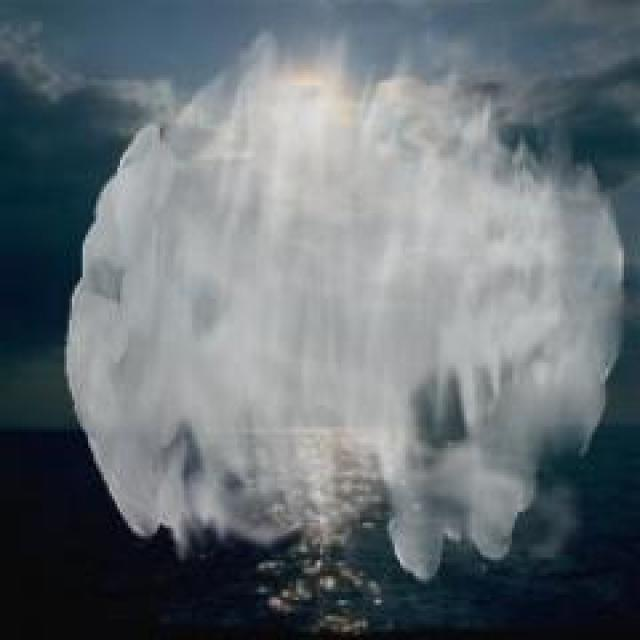smoke: (66, 20, 626, 583)
